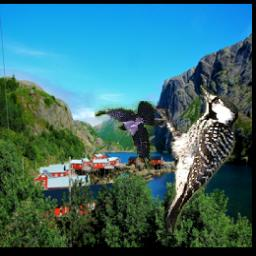Crow: (96, 102, 156, 169)
Woodpecker: (148, 85, 238, 235)
